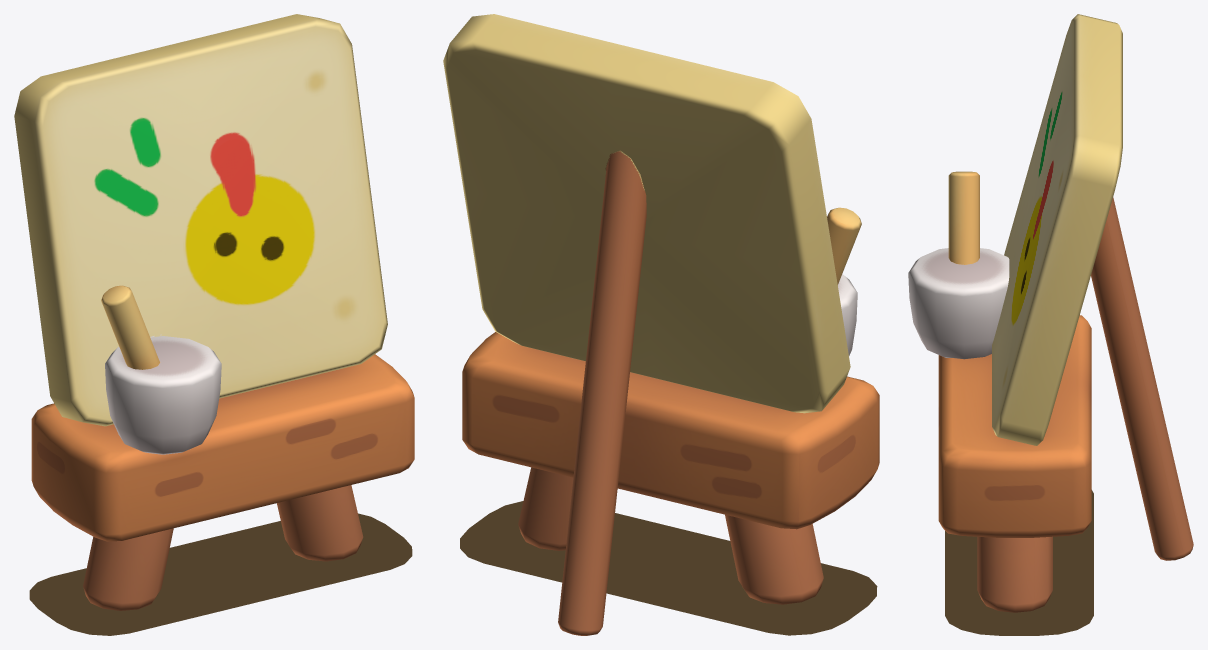
Rendered from Art_board01.fbx.
The picture shows the model from 3 angles, left to right: view 1: azimuth 30°, elevation 25°; view 2: azimuth 150°, elevation 25°; view 3: azimuth 270°, elevation 25°; orthographic projection. The views are drawn at different scales.
Visible parts, largest first — view 1: Art_board01; view 2: Art_board01; view 3: Art_board01.
Part boxes in pixels (x1,y1,x2,y2): Art_board01: [14, 14, 414, 635]; Art_board01: [443, 14, 879, 635]; Art_board01: [908, 14, 1193, 635].
Bounding box in the file's own units: 99.91 × 138 × 74.13.
Materials: 2 (1 with a texture image).
